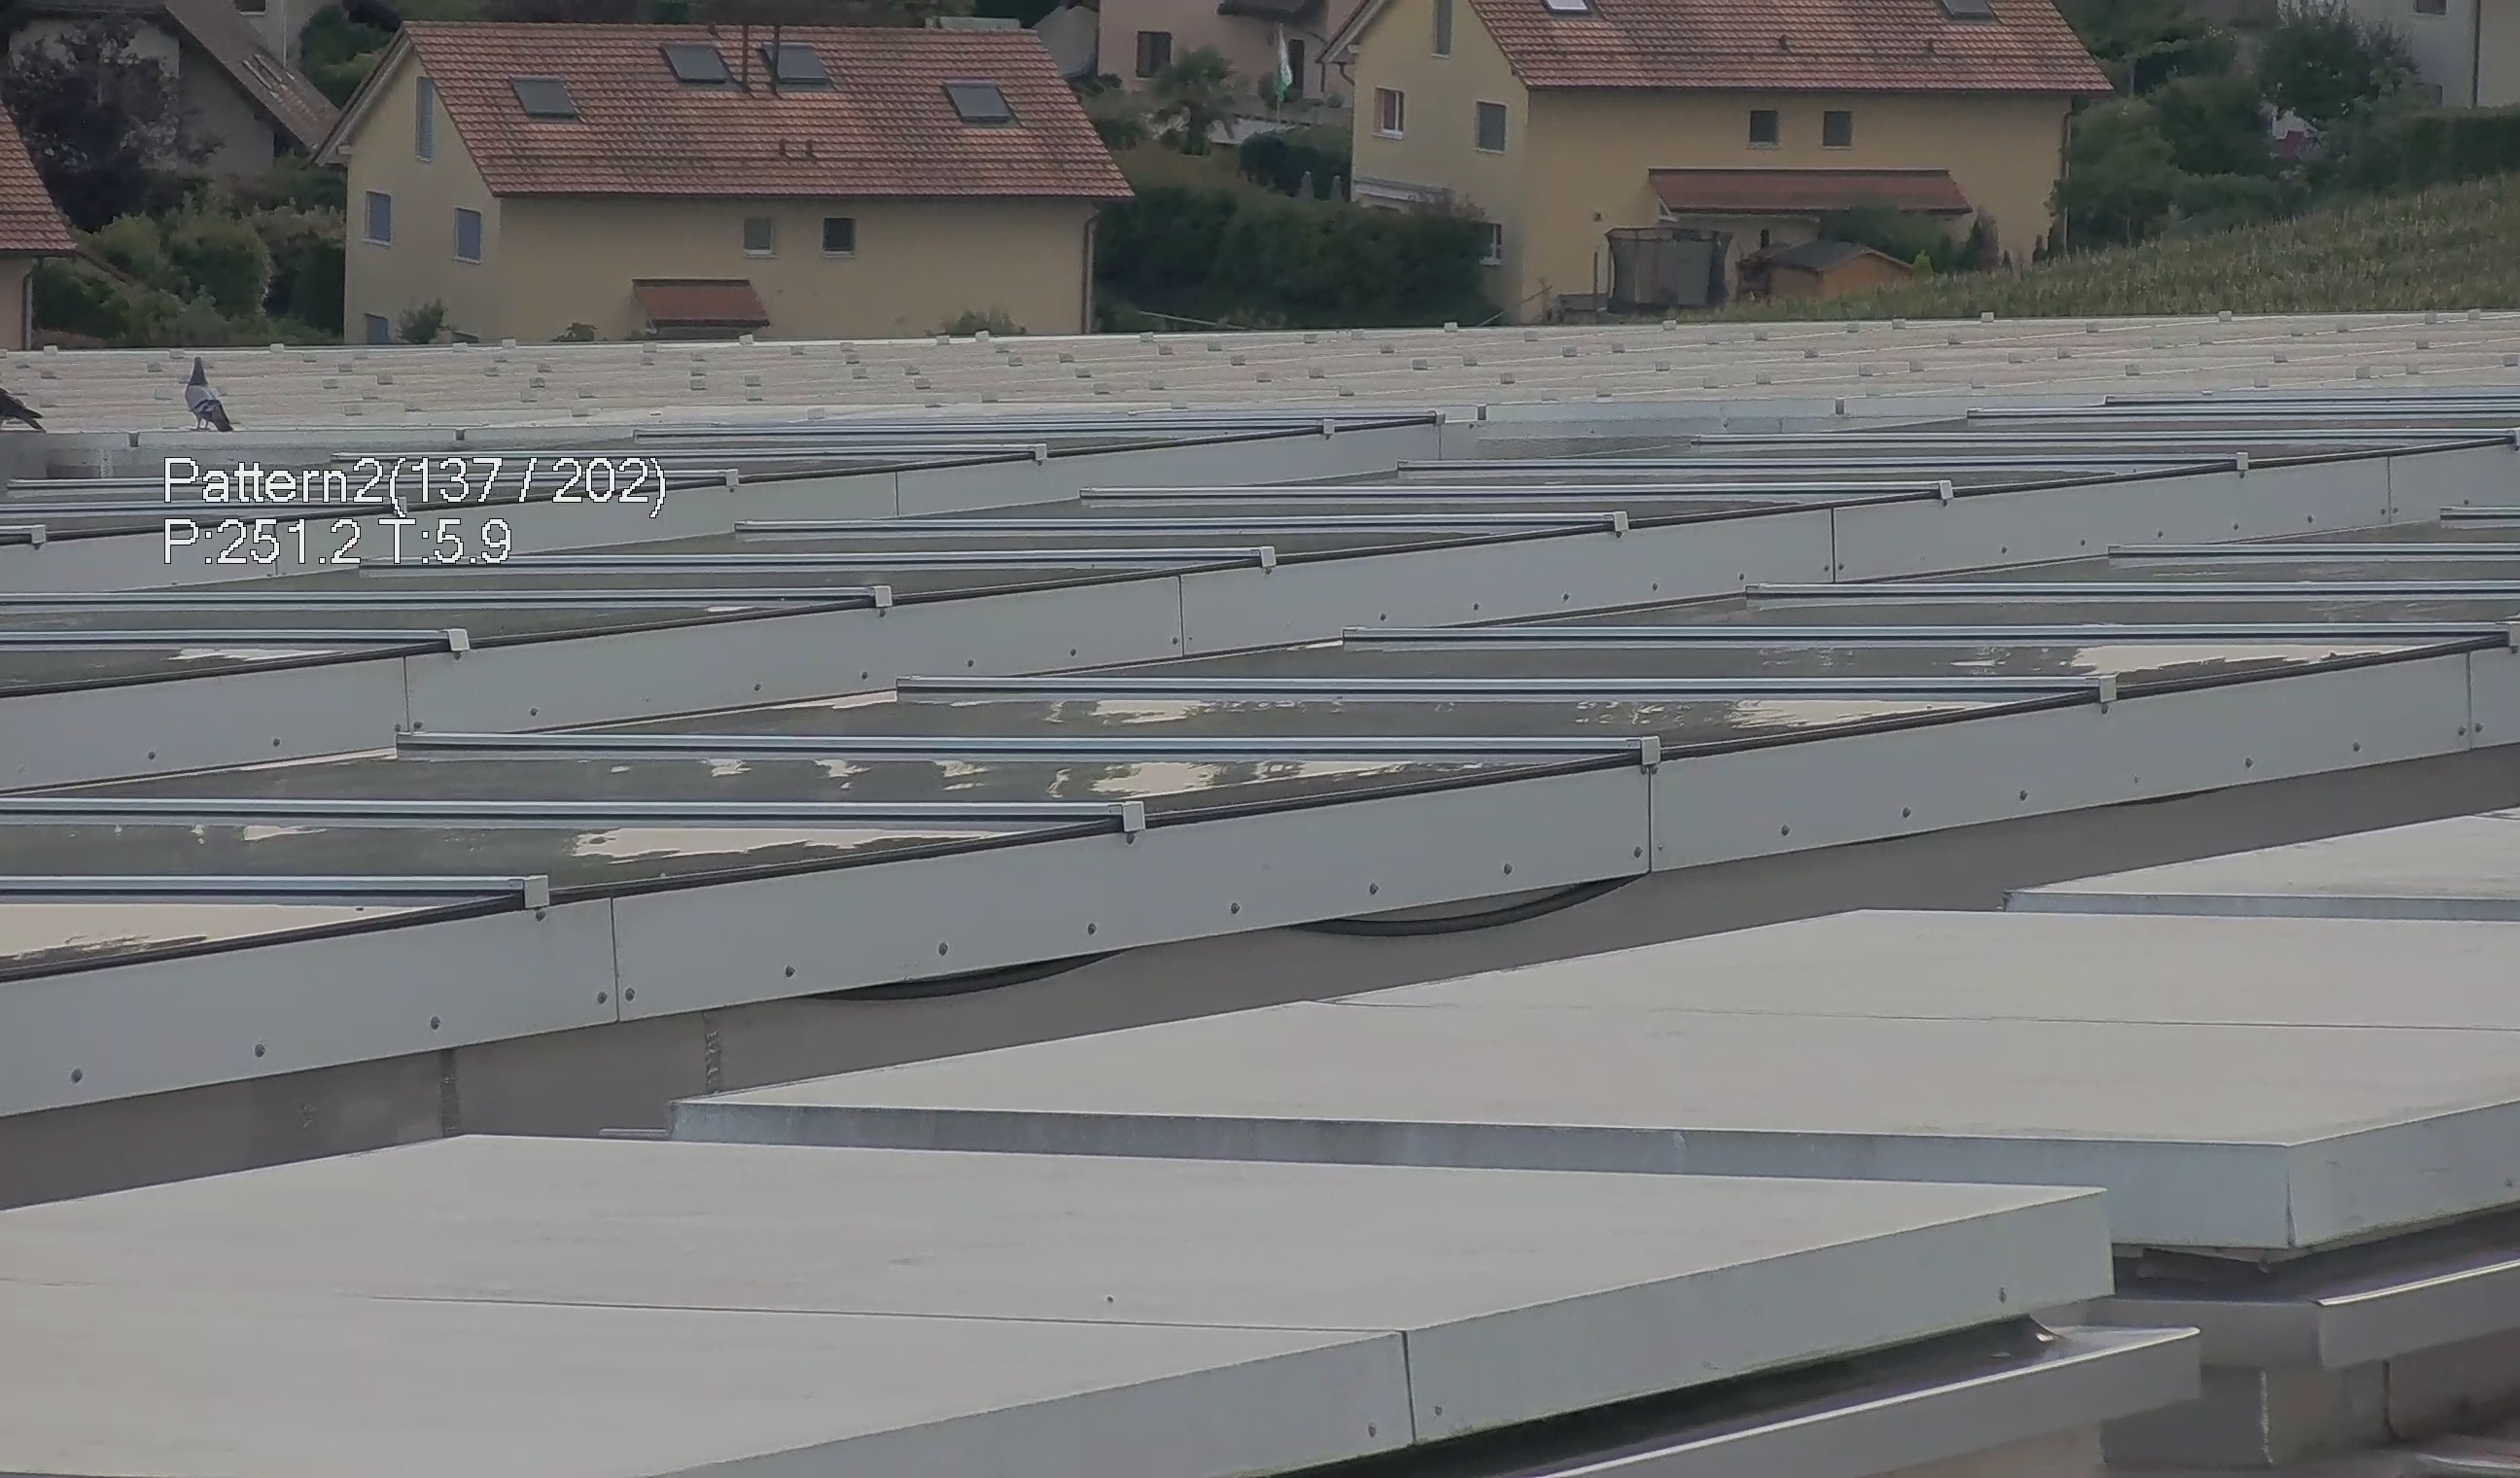Pigeon: (181, 350, 239, 431), (2, 382, 49, 438)
